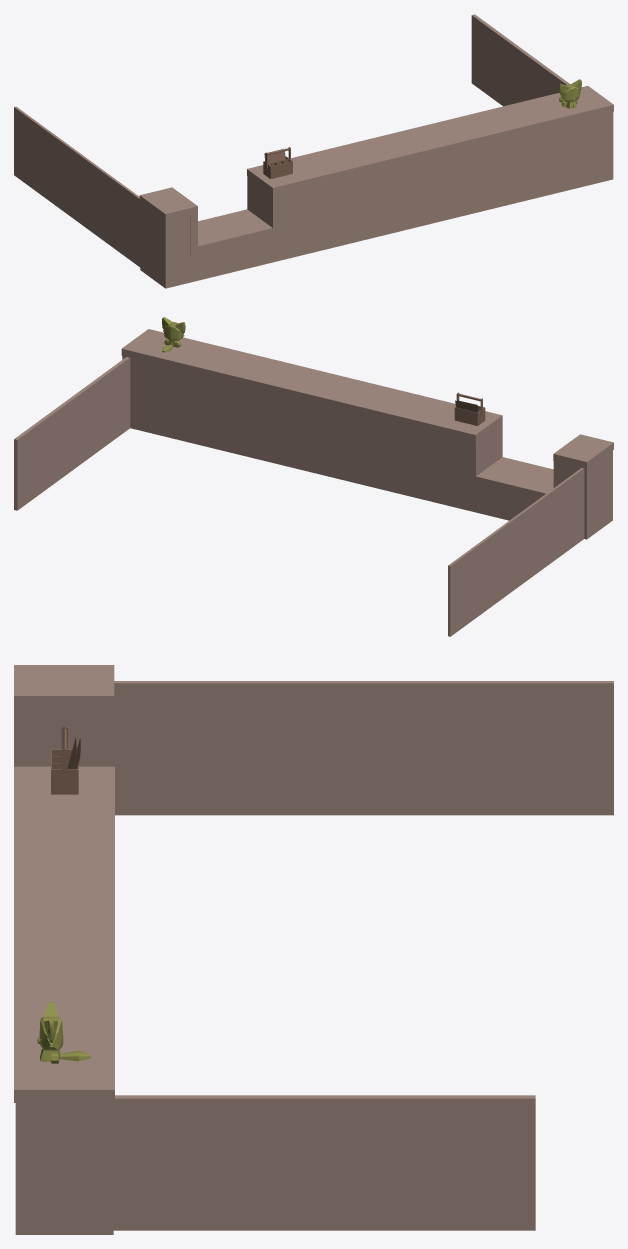
Rendered from MainCounterFixed.fbx.
3 views of the same model, one above another, from view 1: azimuth 30°, elevation 25°; view 2: azimuth 150°, elevation 25°; view 3: azimuth 270°, elevation 25° (orthographic). The views are drawn at different scales.
Parts seen in each view (by area): view 1: MainCounter, Napkins, SmallPlush; view 2: MainCounter, Napkins, SmallPlush; view 3: MainCounter, Napkins, SmallPlush.
Boxes of the visible parts, x1,y1,x2,y2 form: MainCounter: [14, 14, 613, 288]; Napkins: [263, 147, 292, 179]; SmallPlush: [559, 79, 581, 108]; MainCounter: [14, 329, 613, 636]; Napkins: [454, 392, 485, 425]; SmallPlush: [162, 317, 185, 352]; MainCounter: [14, 665, 613, 1234]; Napkins: [51, 726, 80, 794]; SmallPlush: [37, 1002, 90, 1063].
Bounding box in the file's own units: 715 × 151 × 427.
